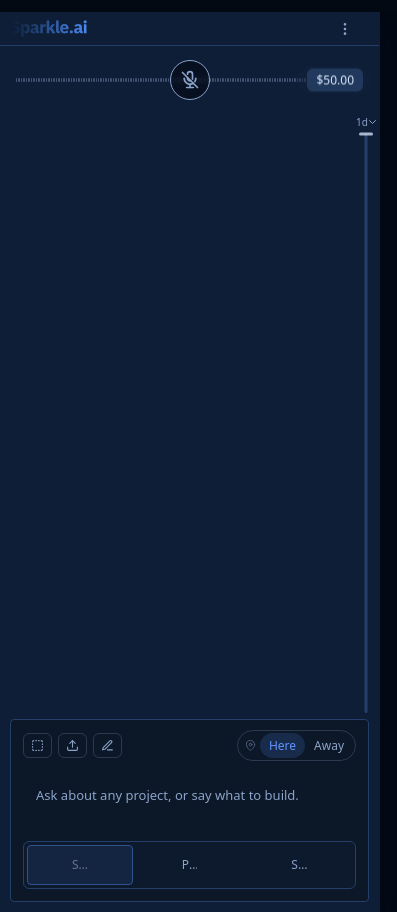
Test case: ConciergeHost — turn tokens (a superseded turn keeps talking — concierge.rs gates the reap) › a LOCAL error id (not a token) always surfaces
This screenshot has width=397, height=912.
Type "anything" into the text box at (190, 804), box [23,775,356,833]
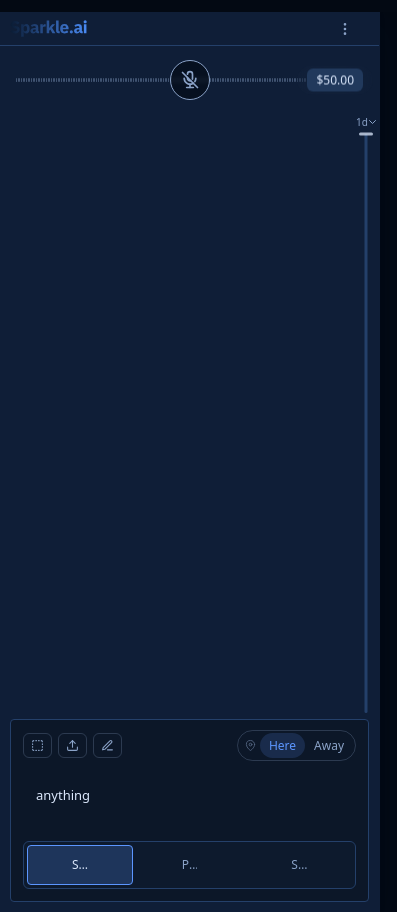
Click the button "Send" at (80, 865), box [27,845,133,885]
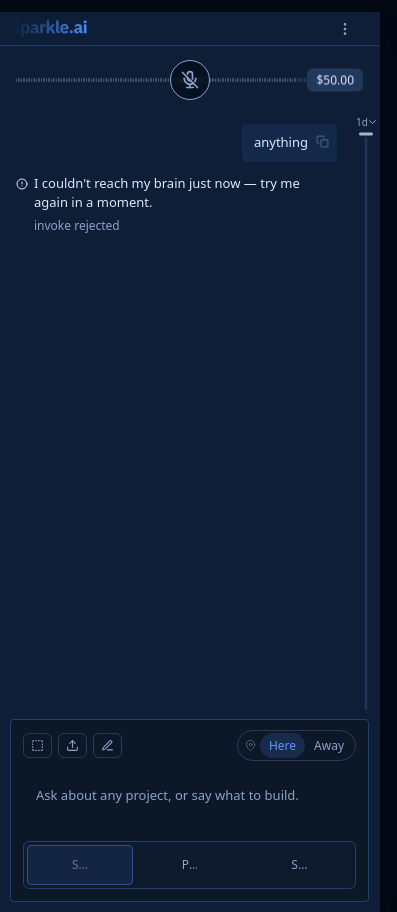
Now the text "couldn't reach my brain" is shown, box [34,174,300,211]
